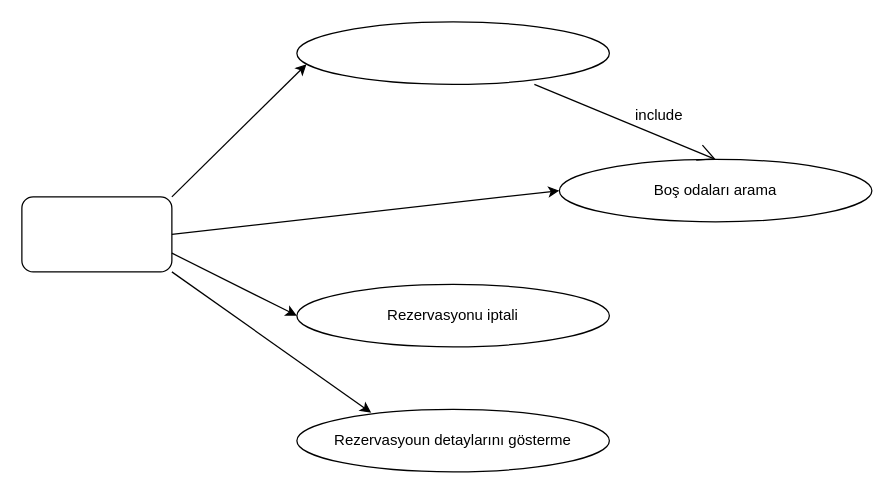
Image size: 894x494. Some labels were removed from this diagram. The shapes that lost their labels are listed below. From the top down, each one's box as (x1, y1, x2, y2) in pixels, then its label:
(296, 21, 609, 84): Oda rezervasyonu yapma
(21, 196, 172, 272): Müşteri
